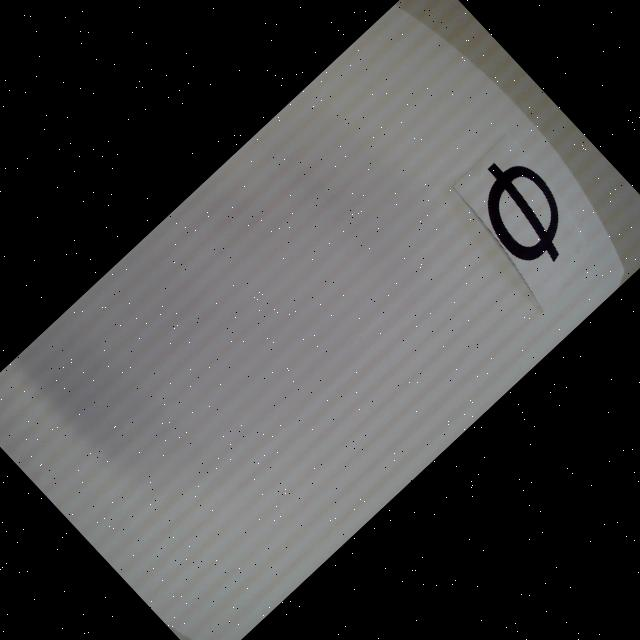PHI: (459, 145, 590, 277)
